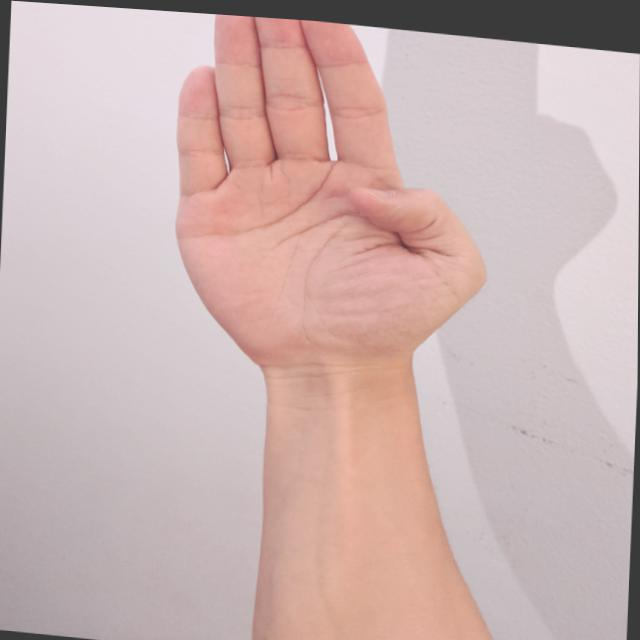B: (152, 8, 505, 401)
